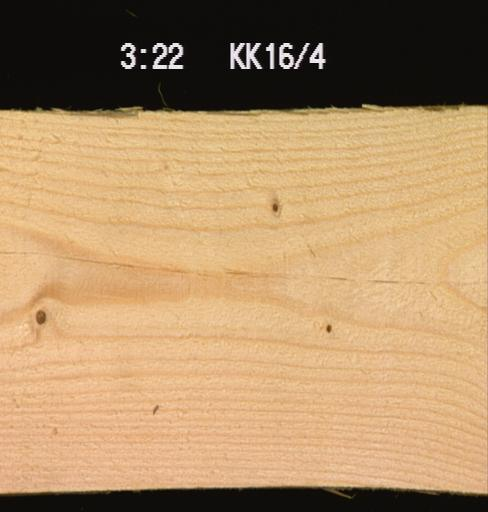small_knot: (32, 304, 46, 326), (268, 199, 279, 214), (321, 320, 332, 334)
wave: (0, 103, 469, 130)
